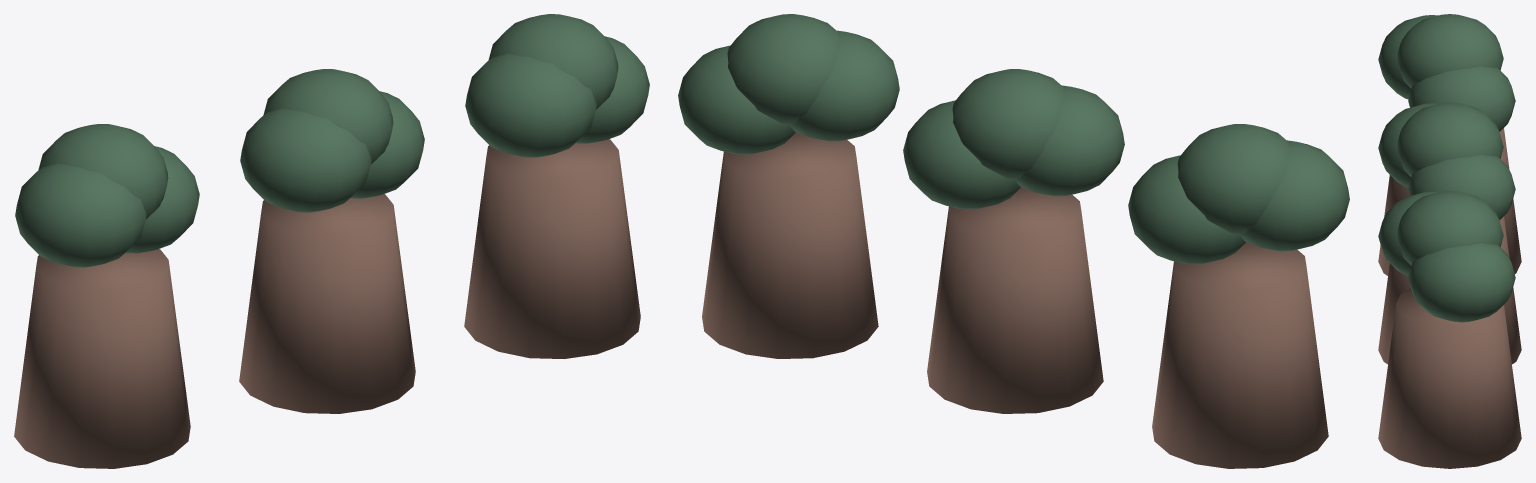
The model's file is prop_hachiue_retsu.glb.
3 renders of one model, left to right at view 1: azimuth 30°, elevation 25°; view 2: azimuth 150°, elevation 25°; view 3: azimuth 270°, elevation 25°, orthographic. The views are drawn at different scales.
Parts seen in each view (by area): view 1: hachiue_retsu; view 2: hachiue_retsu; view 3: hachiue_retsu.
Part boxes in pixels (x1,y1,x2,y2): hachiue_retsu: [14, 14, 649, 468]; hachiue_retsu: [678, 14, 1349, 468]; hachiue_retsu: [1378, 14, 1521, 468].
Bounding box in the file's own units: 1.98 × 0.894 × 0.48.
